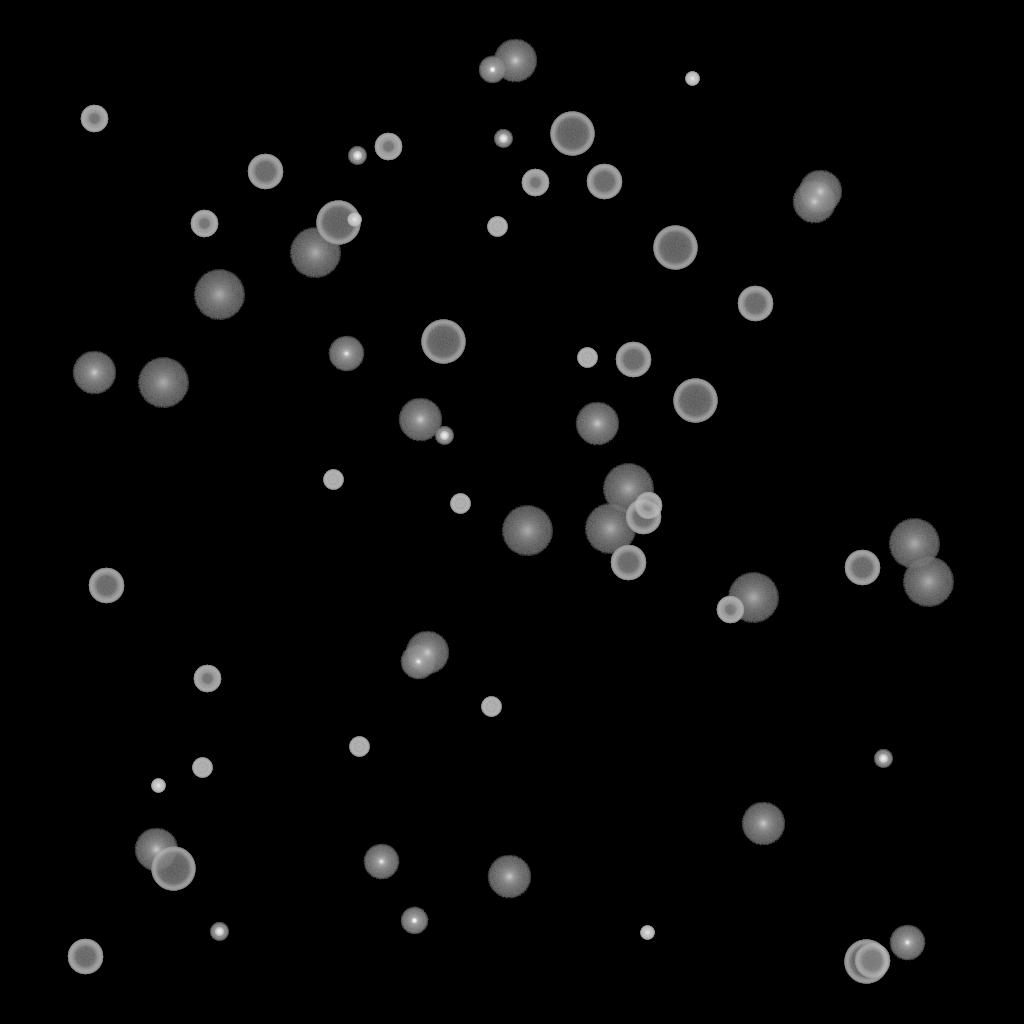depth:-10: (478, 56, 506, 84), (400, 907, 428, 935)
depth:-20: (210, 923, 228, 941), (348, 147, 366, 165), (494, 130, 512, 148), (874, 750, 892, 768), (435, 427, 453, 445)
depth:-30: (640, 926, 654, 940), (347, 213, 361, 227), (151, 779, 165, 793), (685, 72, 699, 86)
depth:-40: (192, 758, 212, 778), (481, 697, 501, 717), (323, 470, 343, 490), (450, 494, 470, 514), (577, 348, 597, 368), (349, 737, 369, 757), (487, 217, 507, 237)
depth:-50: (521, 169, 549, 197), (190, 210, 218, 238), (374, 133, 402, 161), (80, 105, 108, 133), (634, 492, 662, 520), (716, 596, 744, 624), (193, 665, 221, 693)
depth:-60: (625, 499, 661, 535), (854, 943, 890, 979), (737, 286, 773, 322), (67, 939, 103, 975), (844, 550, 880, 586), (88, 568, 124, 604), (586, 164, 622, 200), (610, 545, 646, 581), (247, 154, 283, 190), (615, 342, 651, 378)
depth:-70: (673, 379, 717, 423), (844, 940, 888, 984), (653, 226, 697, 270), (550, 112, 594, 156), (421, 320, 465, 364), (151, 847, 195, 891), (316, 201, 360, 245)
depth:0: (400, 644, 436, 680), (363, 844, 399, 880), (328, 336, 364, 372), (889, 925, 925, 961)
depth:10: (575, 402, 619, 446), (398, 398, 442, 442), (405, 631, 449, 675), (134, 828, 178, 872), (493, 39, 537, 83), (72, 351, 116, 395), (792, 180, 836, 224), (741, 802, 785, 846), (798, 170, 842, 214), (487, 855, 531, 899)
depth:20: (289, 228, 341, 278), (584, 504, 636, 554), (888, 519, 940, 569), (902, 557, 954, 607), (137, 358, 189, 408), (193, 270, 245, 320), (602, 464, 654, 514), (501, 506, 553, 556), (727, 573, 779, 623)
